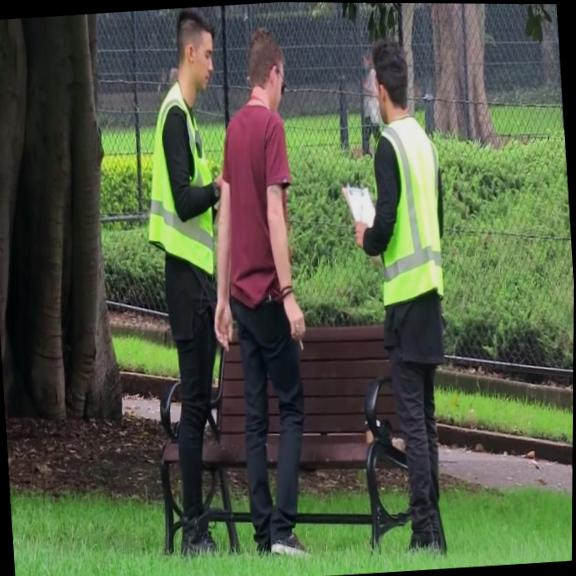safety_vest: (137, 75, 222, 279), (371, 116, 449, 309)
